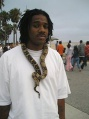male: (18, 10, 56, 47)
